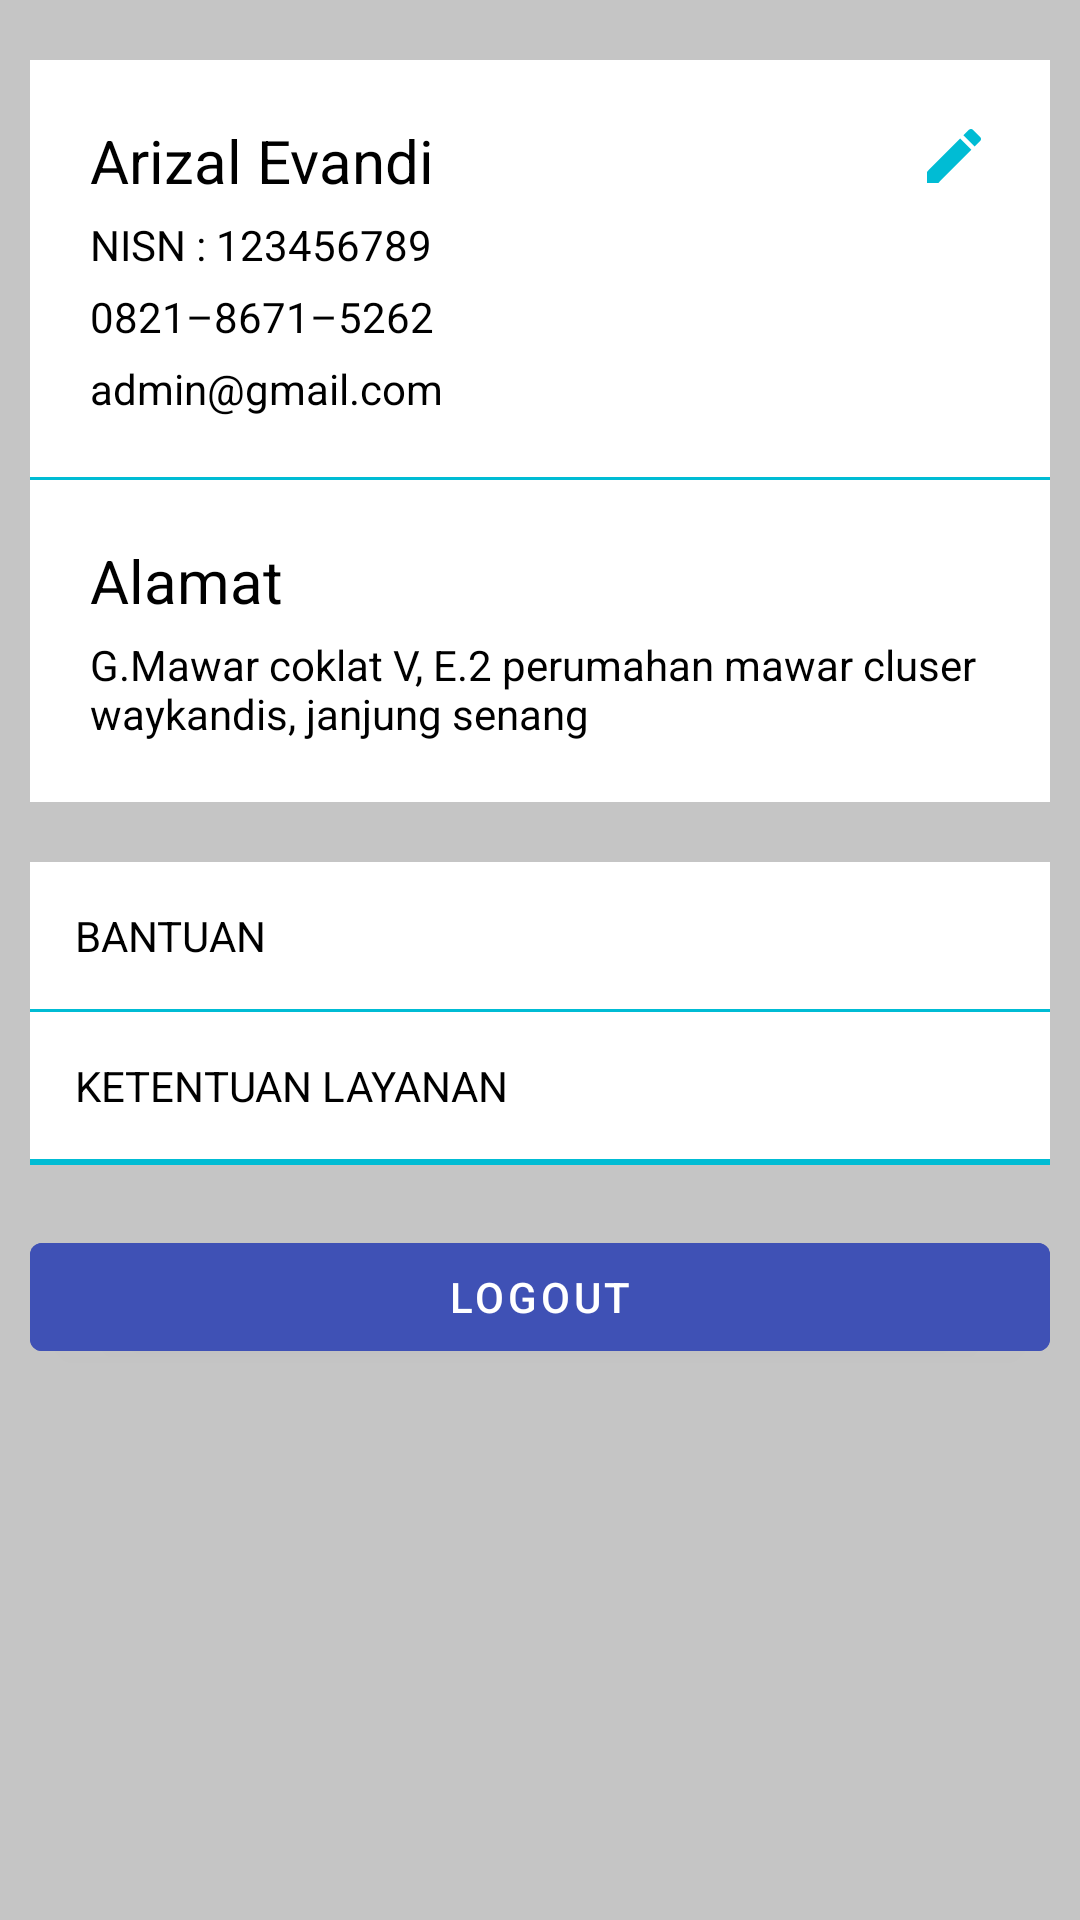

Icons on this 1080 × 1920 Android screen, each with the point to tap as (x=x, y=y):
edit: (x=954, y=156)
